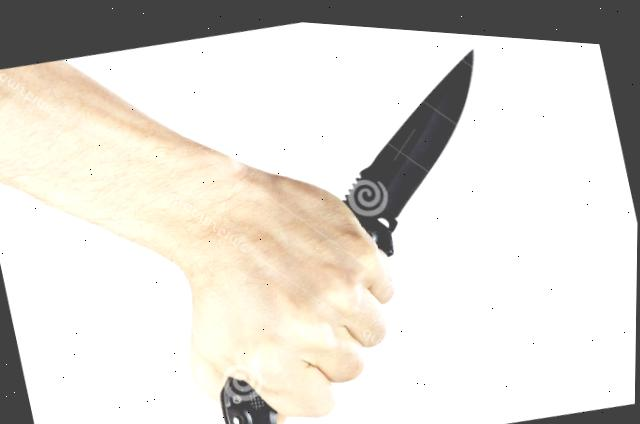pocket-knife: (228, 18, 554, 406)
